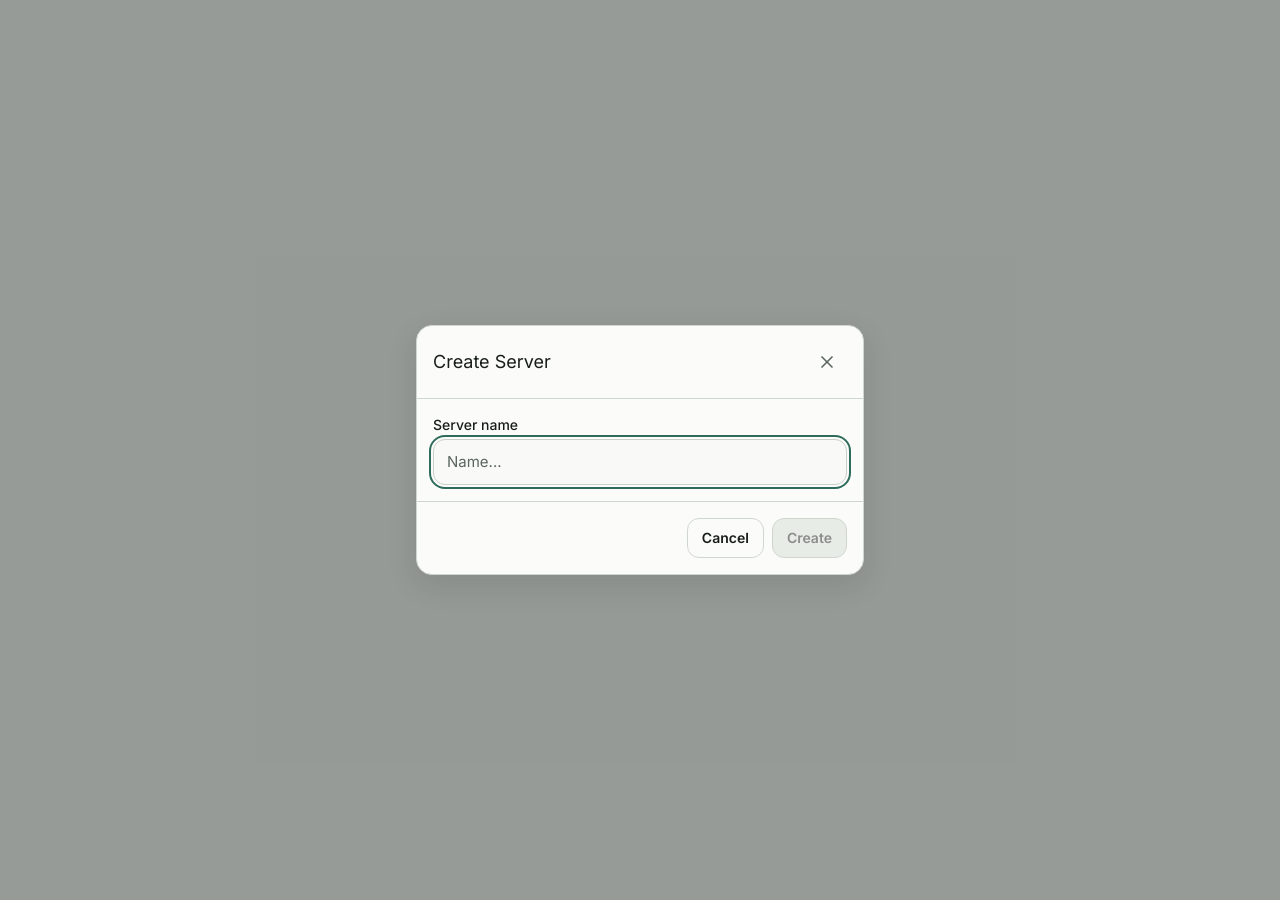
CreateServerModal › shows create failures as alerts
Type "Vetra" into the field labelled "Server name" at (640, 462), box 433,439 -> 847,485
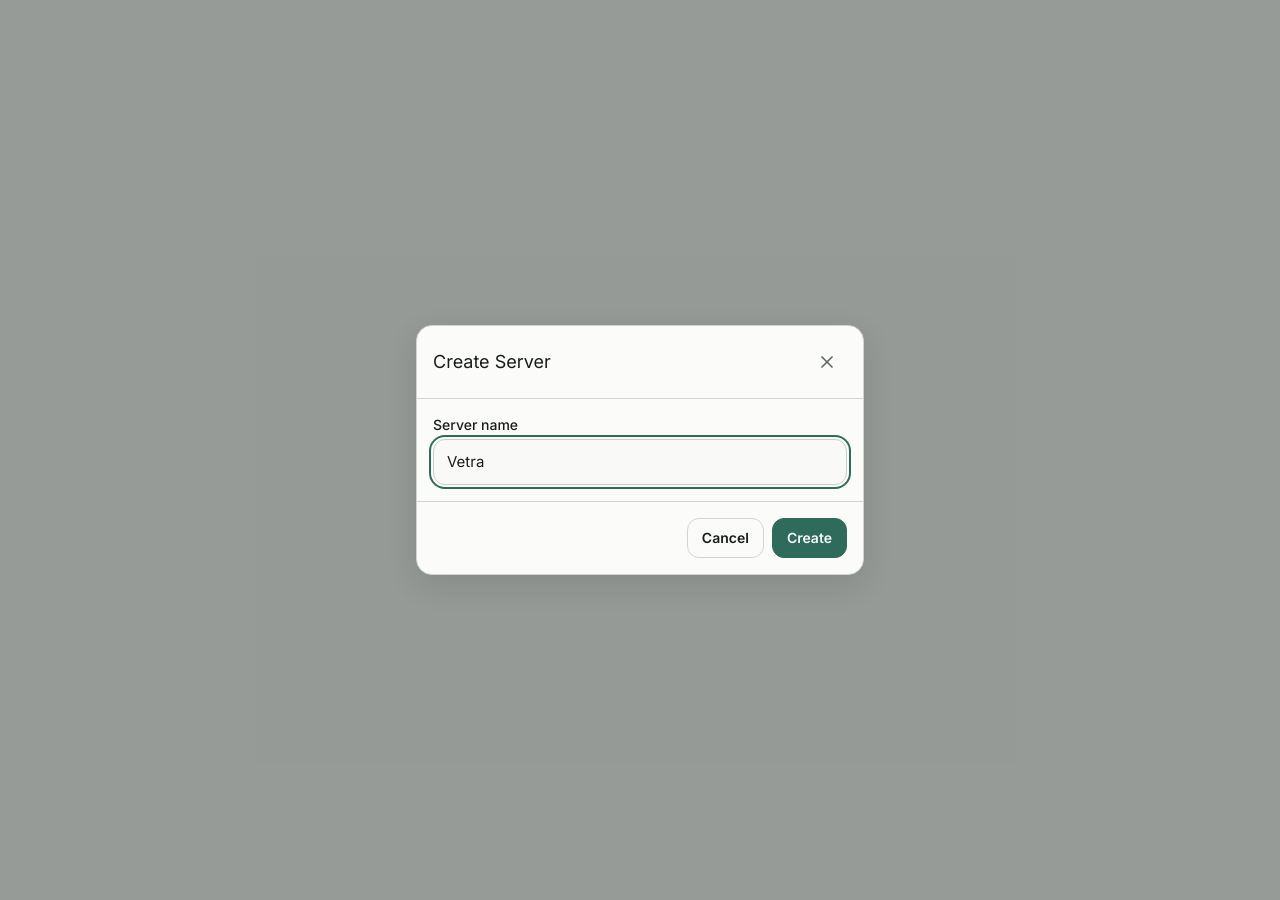
Click the button "Create" at (809, 538), box 772,518 -> 847,558
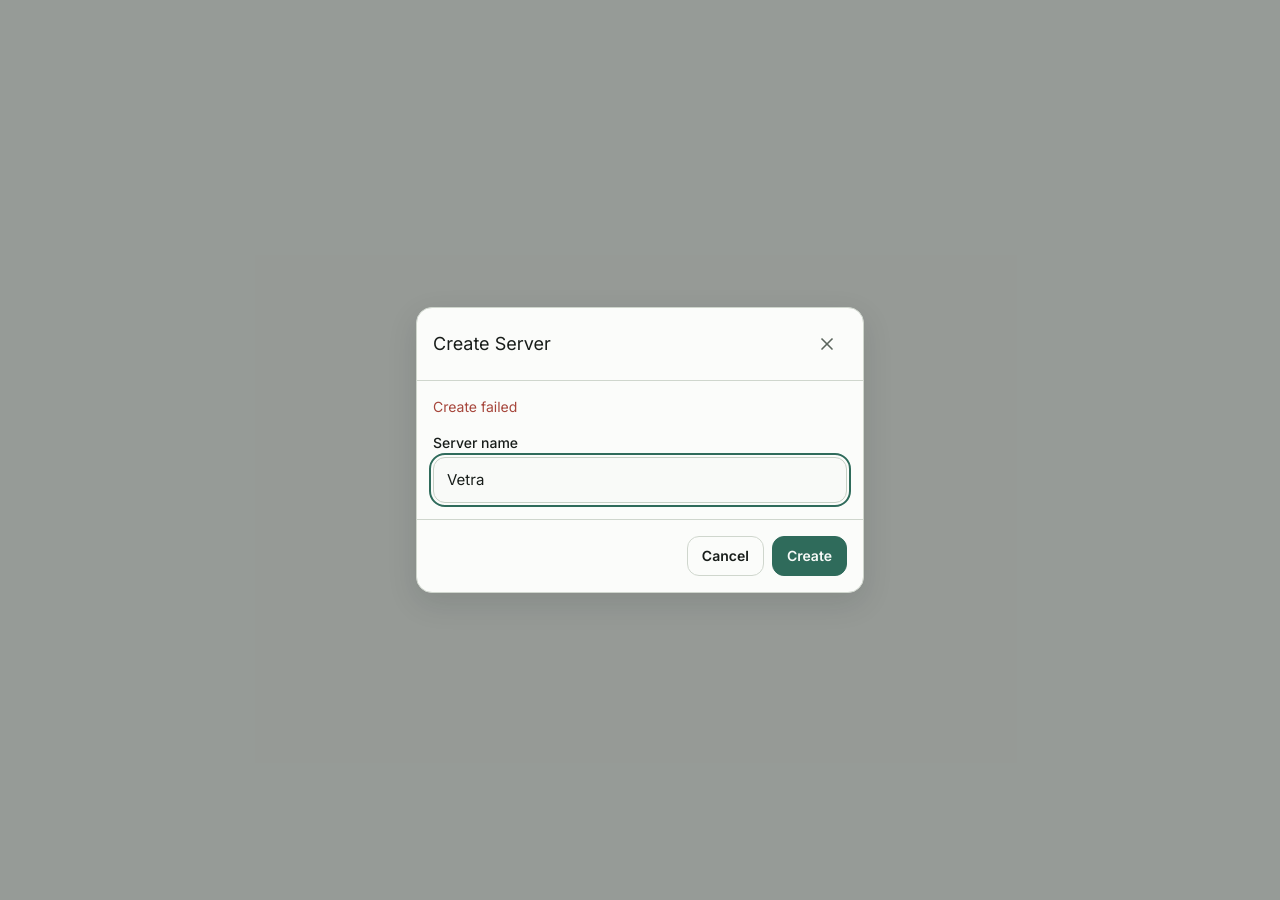
Expected: the message reads "Create failed", 433,398 -> 517,415
